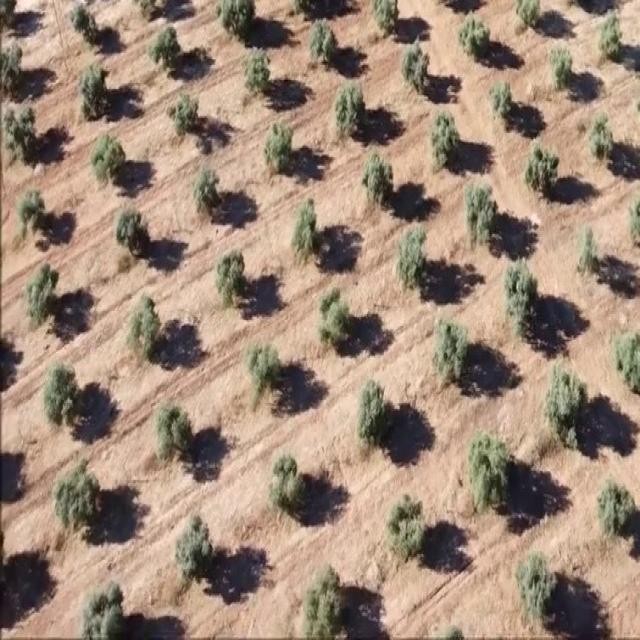trees: (542, 350, 592, 452), (466, 428, 516, 522), (51, 454, 104, 540), (513, 544, 561, 638), (299, 559, 347, 638), (500, 254, 540, 344), (175, 512, 218, 593), (463, 166, 503, 252), (386, 492, 432, 566), (595, 476, 640, 550), (244, 332, 288, 407), (150, 399, 196, 469), (353, 374, 394, 451), (395, 217, 433, 297), (18, 261, 59, 334), (78, 580, 128, 638), (125, 289, 164, 363), (430, 317, 470, 389), (0, 98, 42, 166), (42, 358, 82, 429), (288, 193, 325, 269), (315, 285, 356, 351), (266, 450, 306, 517), (585, 107, 622, 176), (84, 131, 127, 189), (211, 248, 249, 312), (522, 142, 561, 204), (358, 147, 396, 210), (424, 107, 462, 170), (331, 82, 369, 144), (74, 60, 112, 121), (145, 19, 186, 75), (399, 37, 436, 99), (261, 120, 299, 178), (208, 0, 260, 42), (614, 320, 640, 401), (115, 207, 154, 260), (166, 89, 206, 140), (455, 12, 492, 64), (240, 48, 276, 101), (307, 17, 343, 69), (192, 167, 225, 220), (596, 11, 626, 68), (547, 40, 578, 92), (18, 188, 50, 237), (0, 39, 27, 97), (577, 222, 603, 282), (66, 0, 101, 44), (369, 0, 406, 38), (488, 79, 515, 124), (512, 0, 547, 30)
